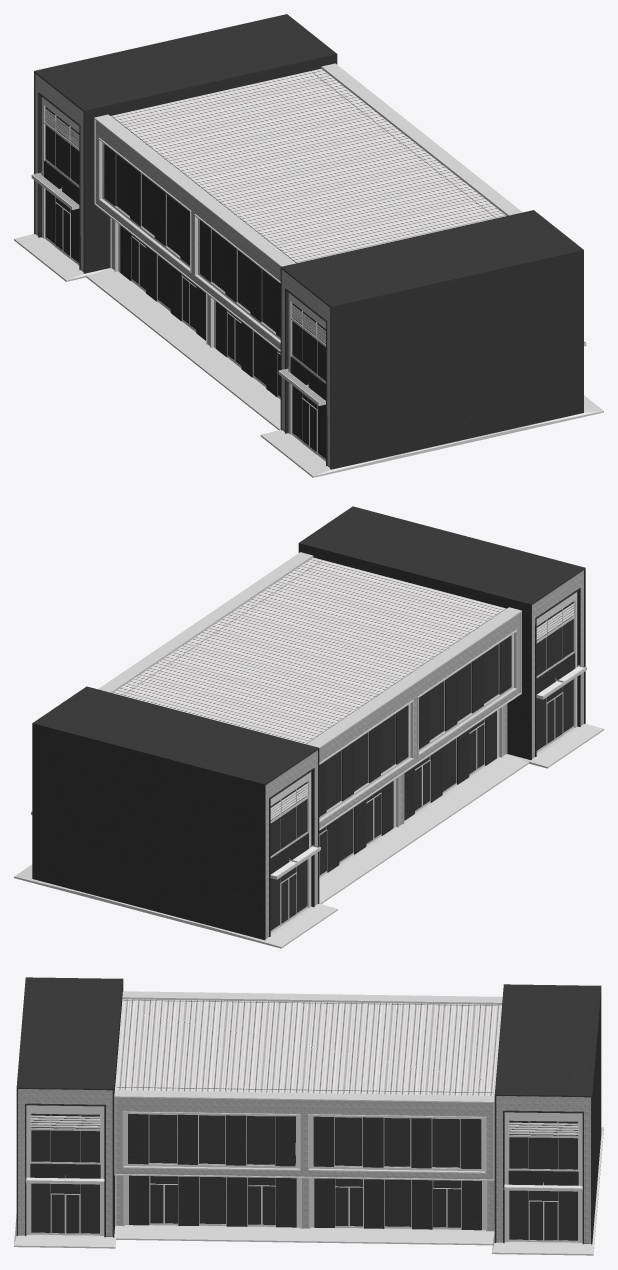
File: Office.fbx
3 views of the same model, one above another, from view 1: azimuth 30°, elevation 25°; view 2: azimuth 150°, elevation 25°; view 3: azimuth 270°, elevation 25° (orthographic). The views are drawn at different scales.
Parts seen in each view (by area): view 1: Mini Office.007; view 2: Mini Office.007; view 3: Mini Office.007.
Part boxes in pixels (left/top/right/bottom): Mini Office.007: left=14, top=14, right=603, bottom=477; Mini Office.007: left=14, top=506, right=603, bottom=948; Mini Office.007: left=14, top=977, right=603, bottom=1255.
Bounding box in the file's own units: 1551 × 808 × 2859.
Materials: 5 (3 with a texture image).
